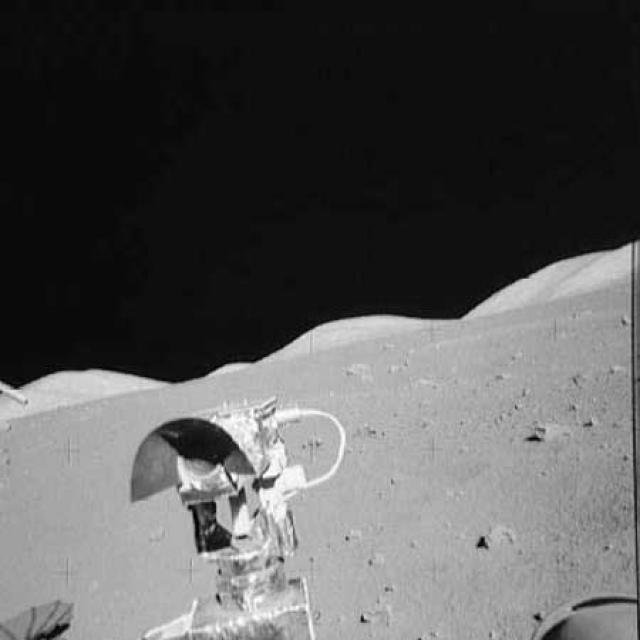artifact: (116, 394, 348, 636), (524, 592, 638, 638), (1, 380, 30, 407)
rock: (476, 521, 518, 552), (530, 419, 571, 445), (345, 359, 372, 375)
